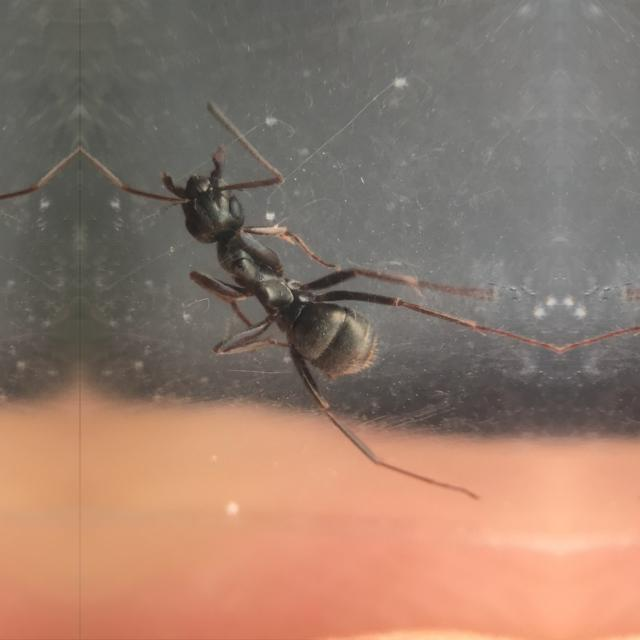Formica: (104, 106, 440, 410)
